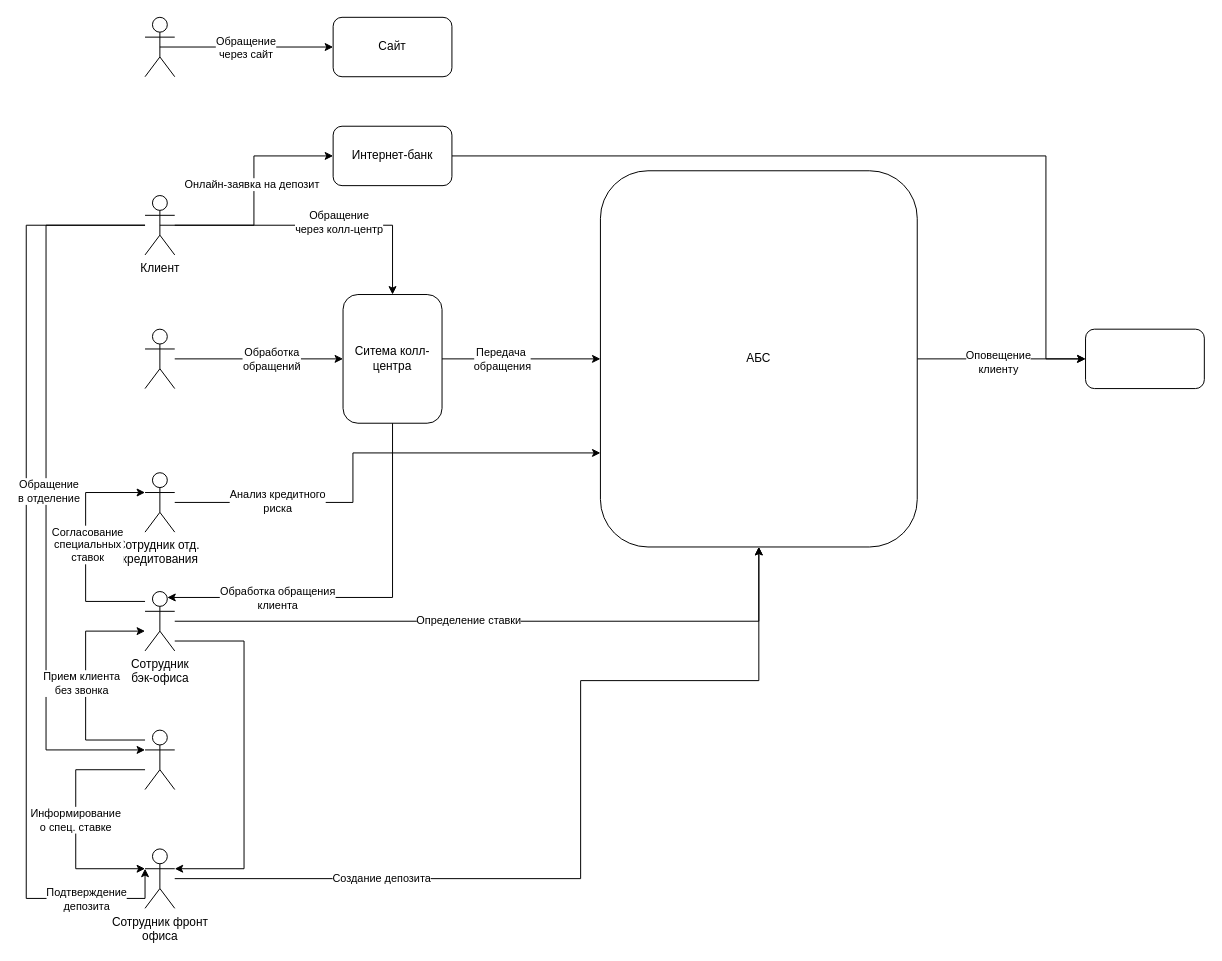
This 1222x961 diagram has some shape labels left out. The shapes that lost their labels are listed below. From the top down, each one's centre as x and y in pixels, then its label:
At (159,46): "Пользователь".
At (159,358): "Оператор колл-центра".
At (1144,358): "СМС-шлюз".
At (159,759): "Сотрудник отд. депозитов".
